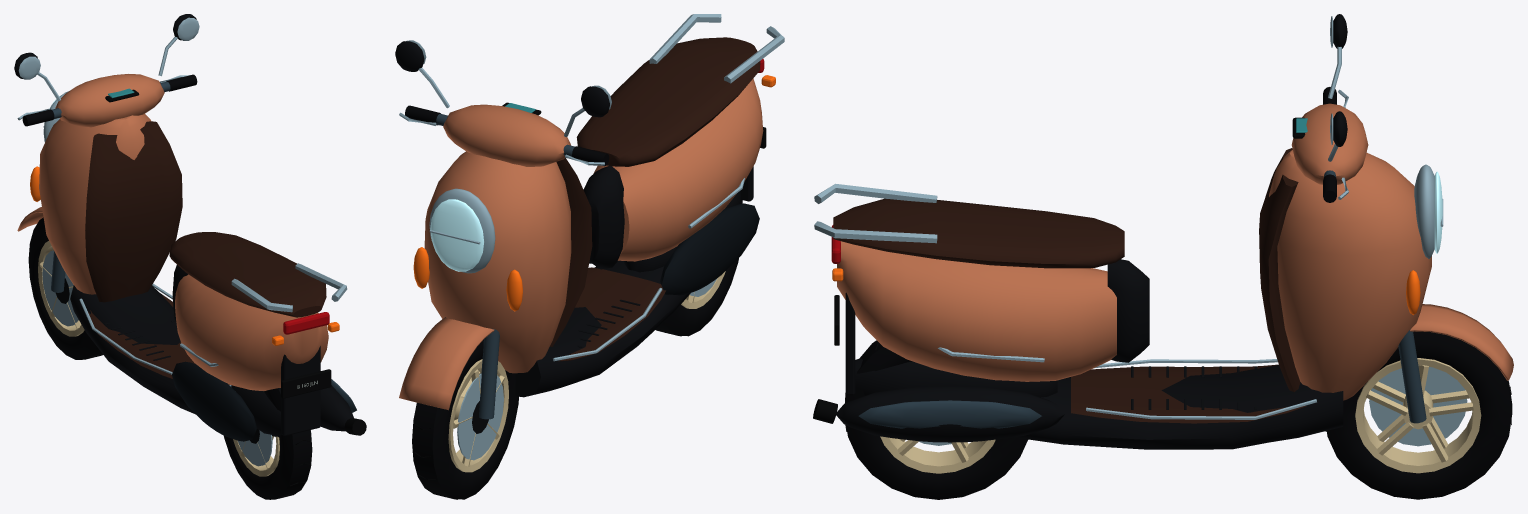
File: retro_scooter_terracotta.glb
The picture shows the model from 3 angles, left to right: view 1: azimuth 30°, elevation 25°; view 2: azimuth 150°, elevation 25°; view 3: azimuth 270°, elevation 25°; orthographic projection. The views are drawn at different scales.
Parts seen in each view (by area): view 1: Body_Mesh, Steering_Pivot_Mesh, Wheel_Rear_Mesh, Wheel_Front_Mesh, TailLights_Mesh, Indicators_Mesh; view 2: Body_Mesh, Steering_Pivot_Mesh, Wheel_Front_Mesh, Headlights_Mesh, Wheel_Rear_Mesh, Indicators_Mesh; view 3: Body_Mesh, Wheel_Front_Mesh, Steering_Pivot_Mesh, Wheel_Rear_Mesh, Headlights_Mesh.
Boxes of the visible parts, x1,y1,x2,y2 form: Body_Mesh: [39, 114, 366, 441]; Steering_Pivot_Mesh: [14, 14, 199, 292]; Wheel_Rear_Mesh: [224, 388, 312, 499]; Wheel_Front_Mesh: [28, 217, 102, 359]; TailLights_Mesh: [283, 312, 329, 334]; Indicators_Mesh: [30, 166, 339, 345]; Body_Mesh: [424, 14, 784, 397]; Steering_Pivot_Mesh: [395, 40, 611, 419]; Wheel_Front_Mesh: [412, 339, 518, 499]; Headlights_Mesh: [429, 188, 495, 273]; Wheel_Rear_Mesh: [656, 198, 742, 336]; Indicators_Mesh: [413, 75, 775, 311]; Body_Mesh: [813, 148, 1431, 449]; Wheel_Front_Mesh: [1325, 331, 1512, 499]; Steering_Pivot_Mesh: [1291, 14, 1513, 423]; Wheel_Rear_Mesh: [844, 340, 1028, 499]; Headlights_Mesh: [1414, 164, 1443, 258].
Size of the model in its own units: 0.694 by 1.24 by 1.83.
Materials: 2 (1 with a texture image).
